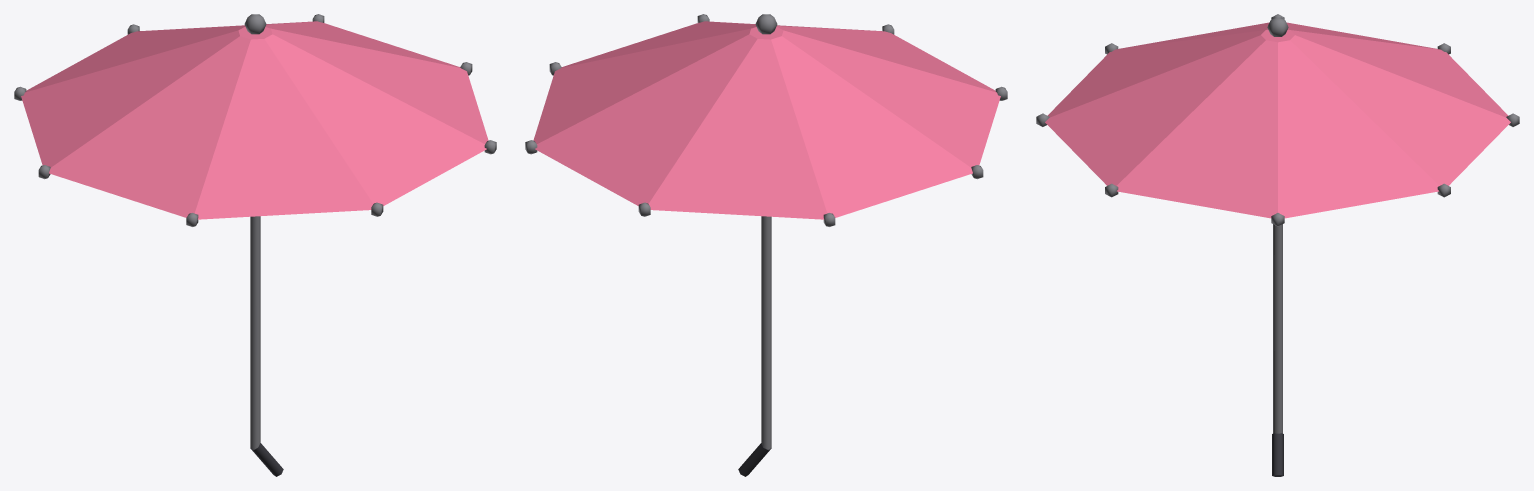
Rendered from SM_HandUmbrella.fbx.
The picture shows the model from 3 angles, left to right: view 1: azimuth 30°, elevation 25°; view 2: azimuth 150°, elevation 25°; view 3: azimuth 270°, elevation 25°; orthographic projection. The views are drawn at different scales.
Visible parts, largest first — view 1: SM_HandUmbrella; view 2: SM_HandUmbrella; view 3: SM_HandUmbrella.
Part boxes in pixels (box(x1,y1,x2,y2)): SM_HandUmbrella: box(14, 14, 496, 476); SM_HandUmbrella: box(525, 14, 1007, 476); SM_HandUmbrella: box(1036, 14, 1519, 476).
Bounding box in the file's own units: 1.13 × 1.16 × 1.13.
